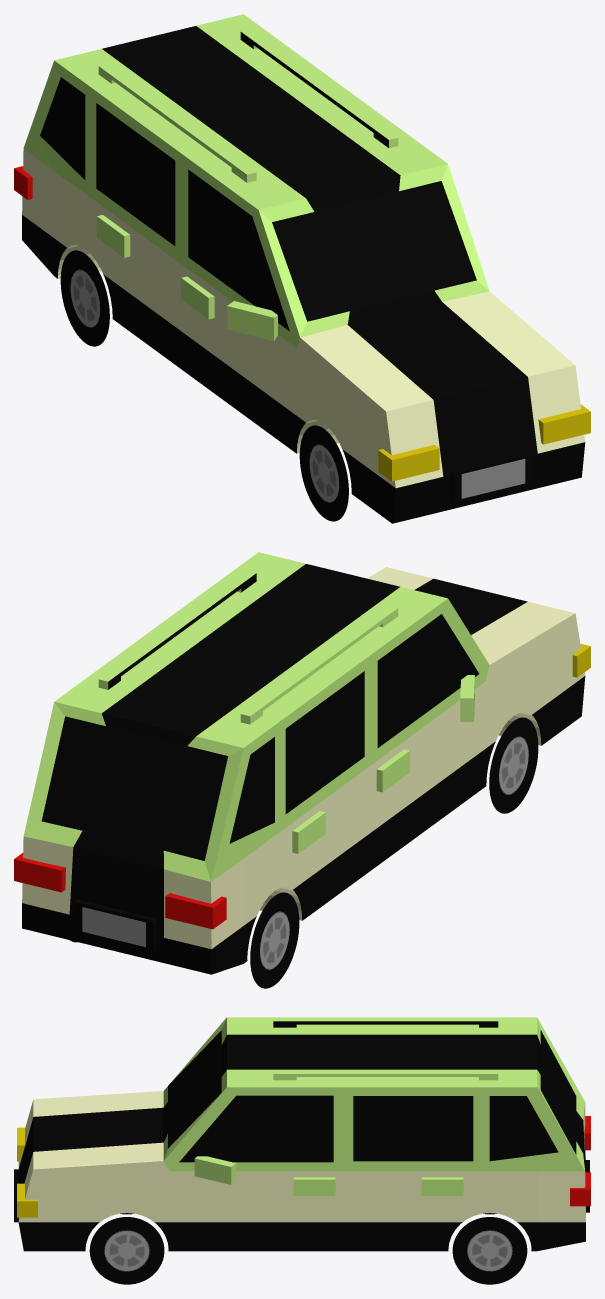
File: Mobil_7_Hitam_D.fbx
3 views of the same model, one above another, from view 1: azimuth 30°, elevation 25°; view 2: azimuth 150°, elevation 25°; view 3: azimuth 270°, elevation 25° (orthographic). The views are drawn at different scales.
Parts seen in each view (by area): view 1: Mobil4.001; view 2: Mobil4.001; view 3: Mobil4.001.
Boxes of the visible parts, x1=… form: Mobil4.001: x1=14, y1=14, x2=590, y2=523; Mobil4.001: x1=14, y1=552, x2=590, y2=988; Mobil4.001: x1=14, y1=1017, x2=590, y2=1284.
Bounding box in the file's own units: 519 × 540 × 1385.
5 materials, 3 textured.
